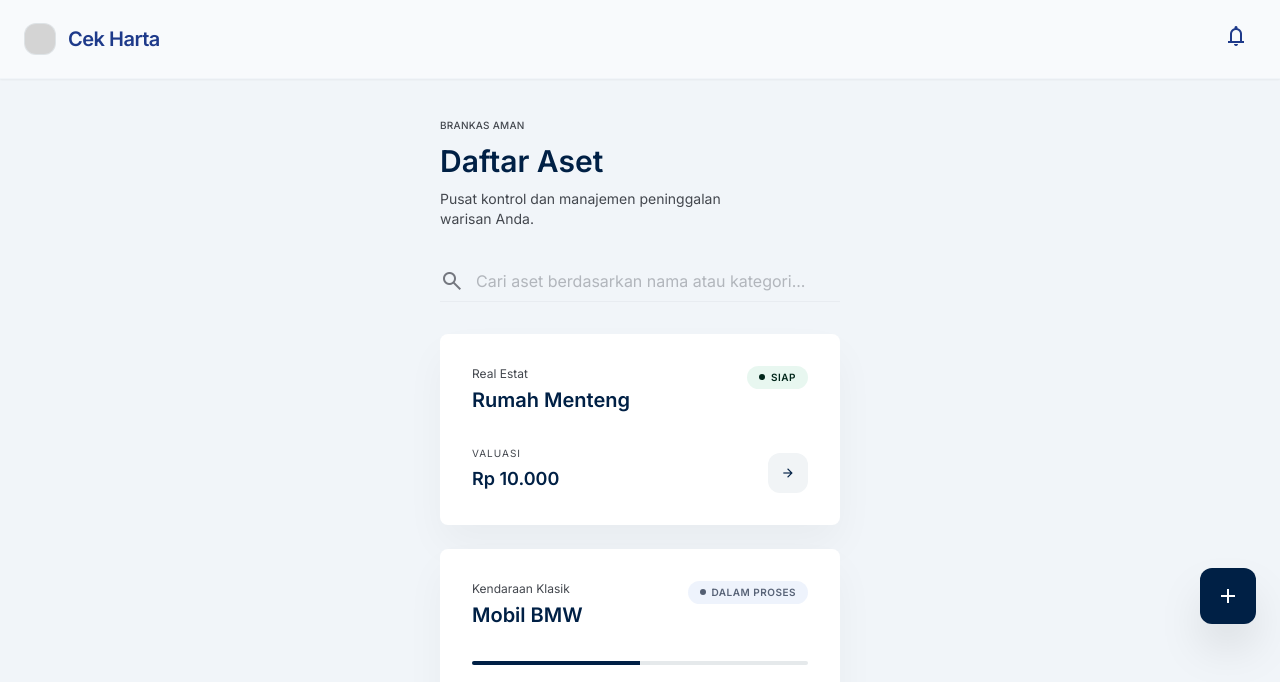
Test: Assets Page › menampilkan pesat kosong jika pencarian tidak cocok
In the field labelled "Cari aset": x=658, y=280 [476,268,840,292], type "Pesawat Terbang"
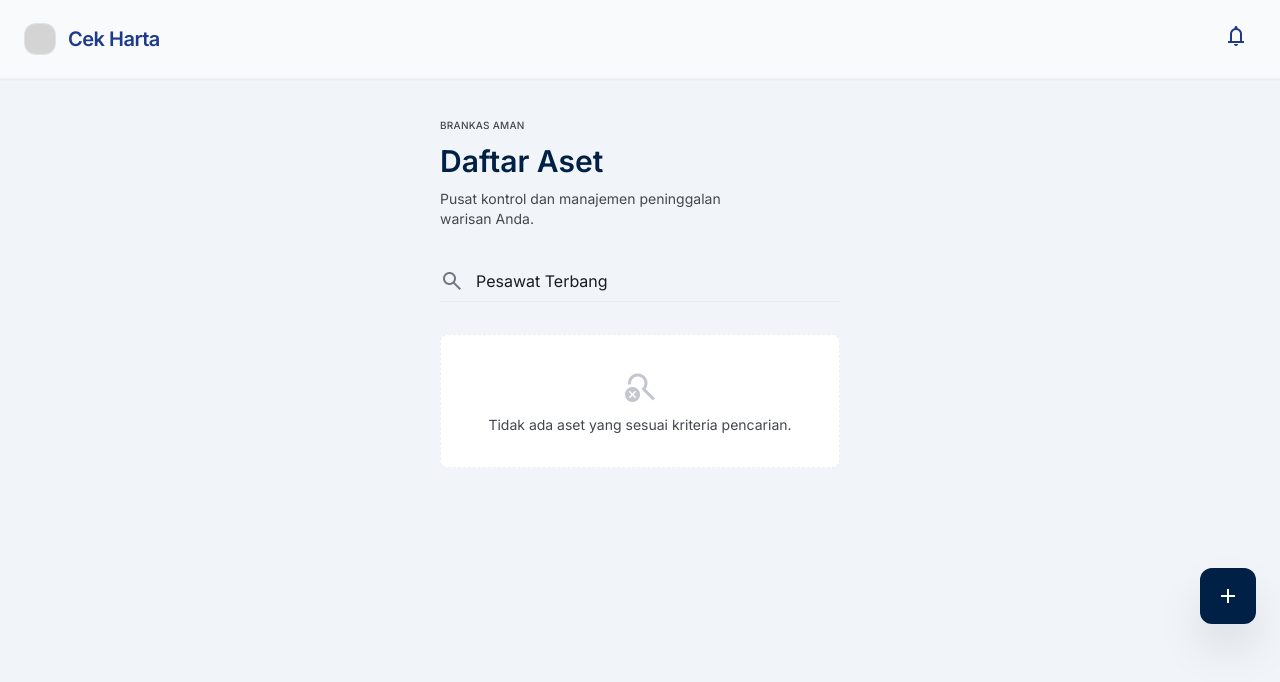
Now the text "Tidak ada aset yang sesuai kriteria pencarian." is shown, box [473,414,807,434]
